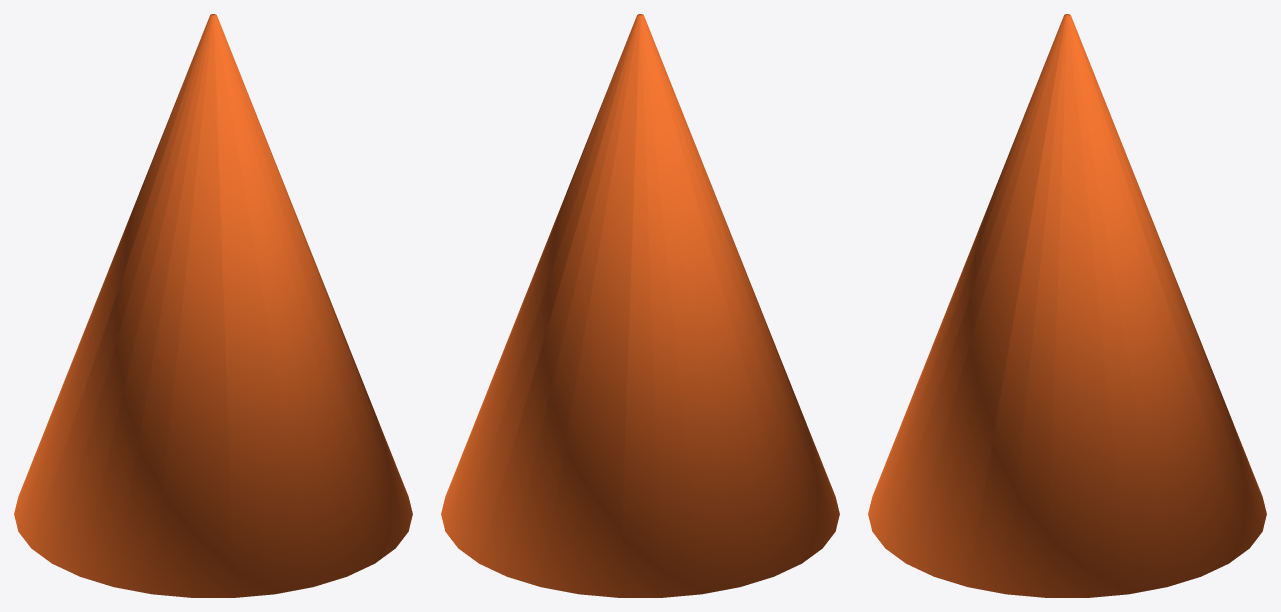
Rendered from mini_cone.dae.
The picture shows the model from 3 angles, left to right: view 1: azimuth 30°, elevation 25°; view 2: azimuth 150°, elevation 25°; view 3: azimuth 270°, elevation 25°; orthographic projection.
Visible parts, largest first — view 1: Cone_001; view 2: Cone_001; view 3: Cone_001.
Boxes of the visible parts, box(x1,y1,x2,y2) form: Cone_001: box(14, 14, 412, 597); Cone_001: box(441, 14, 839, 597); Cone_001: box(868, 14, 1266, 597).
Bounding box in the file's own units: 0.0577 × 0.058 × 0.08.
